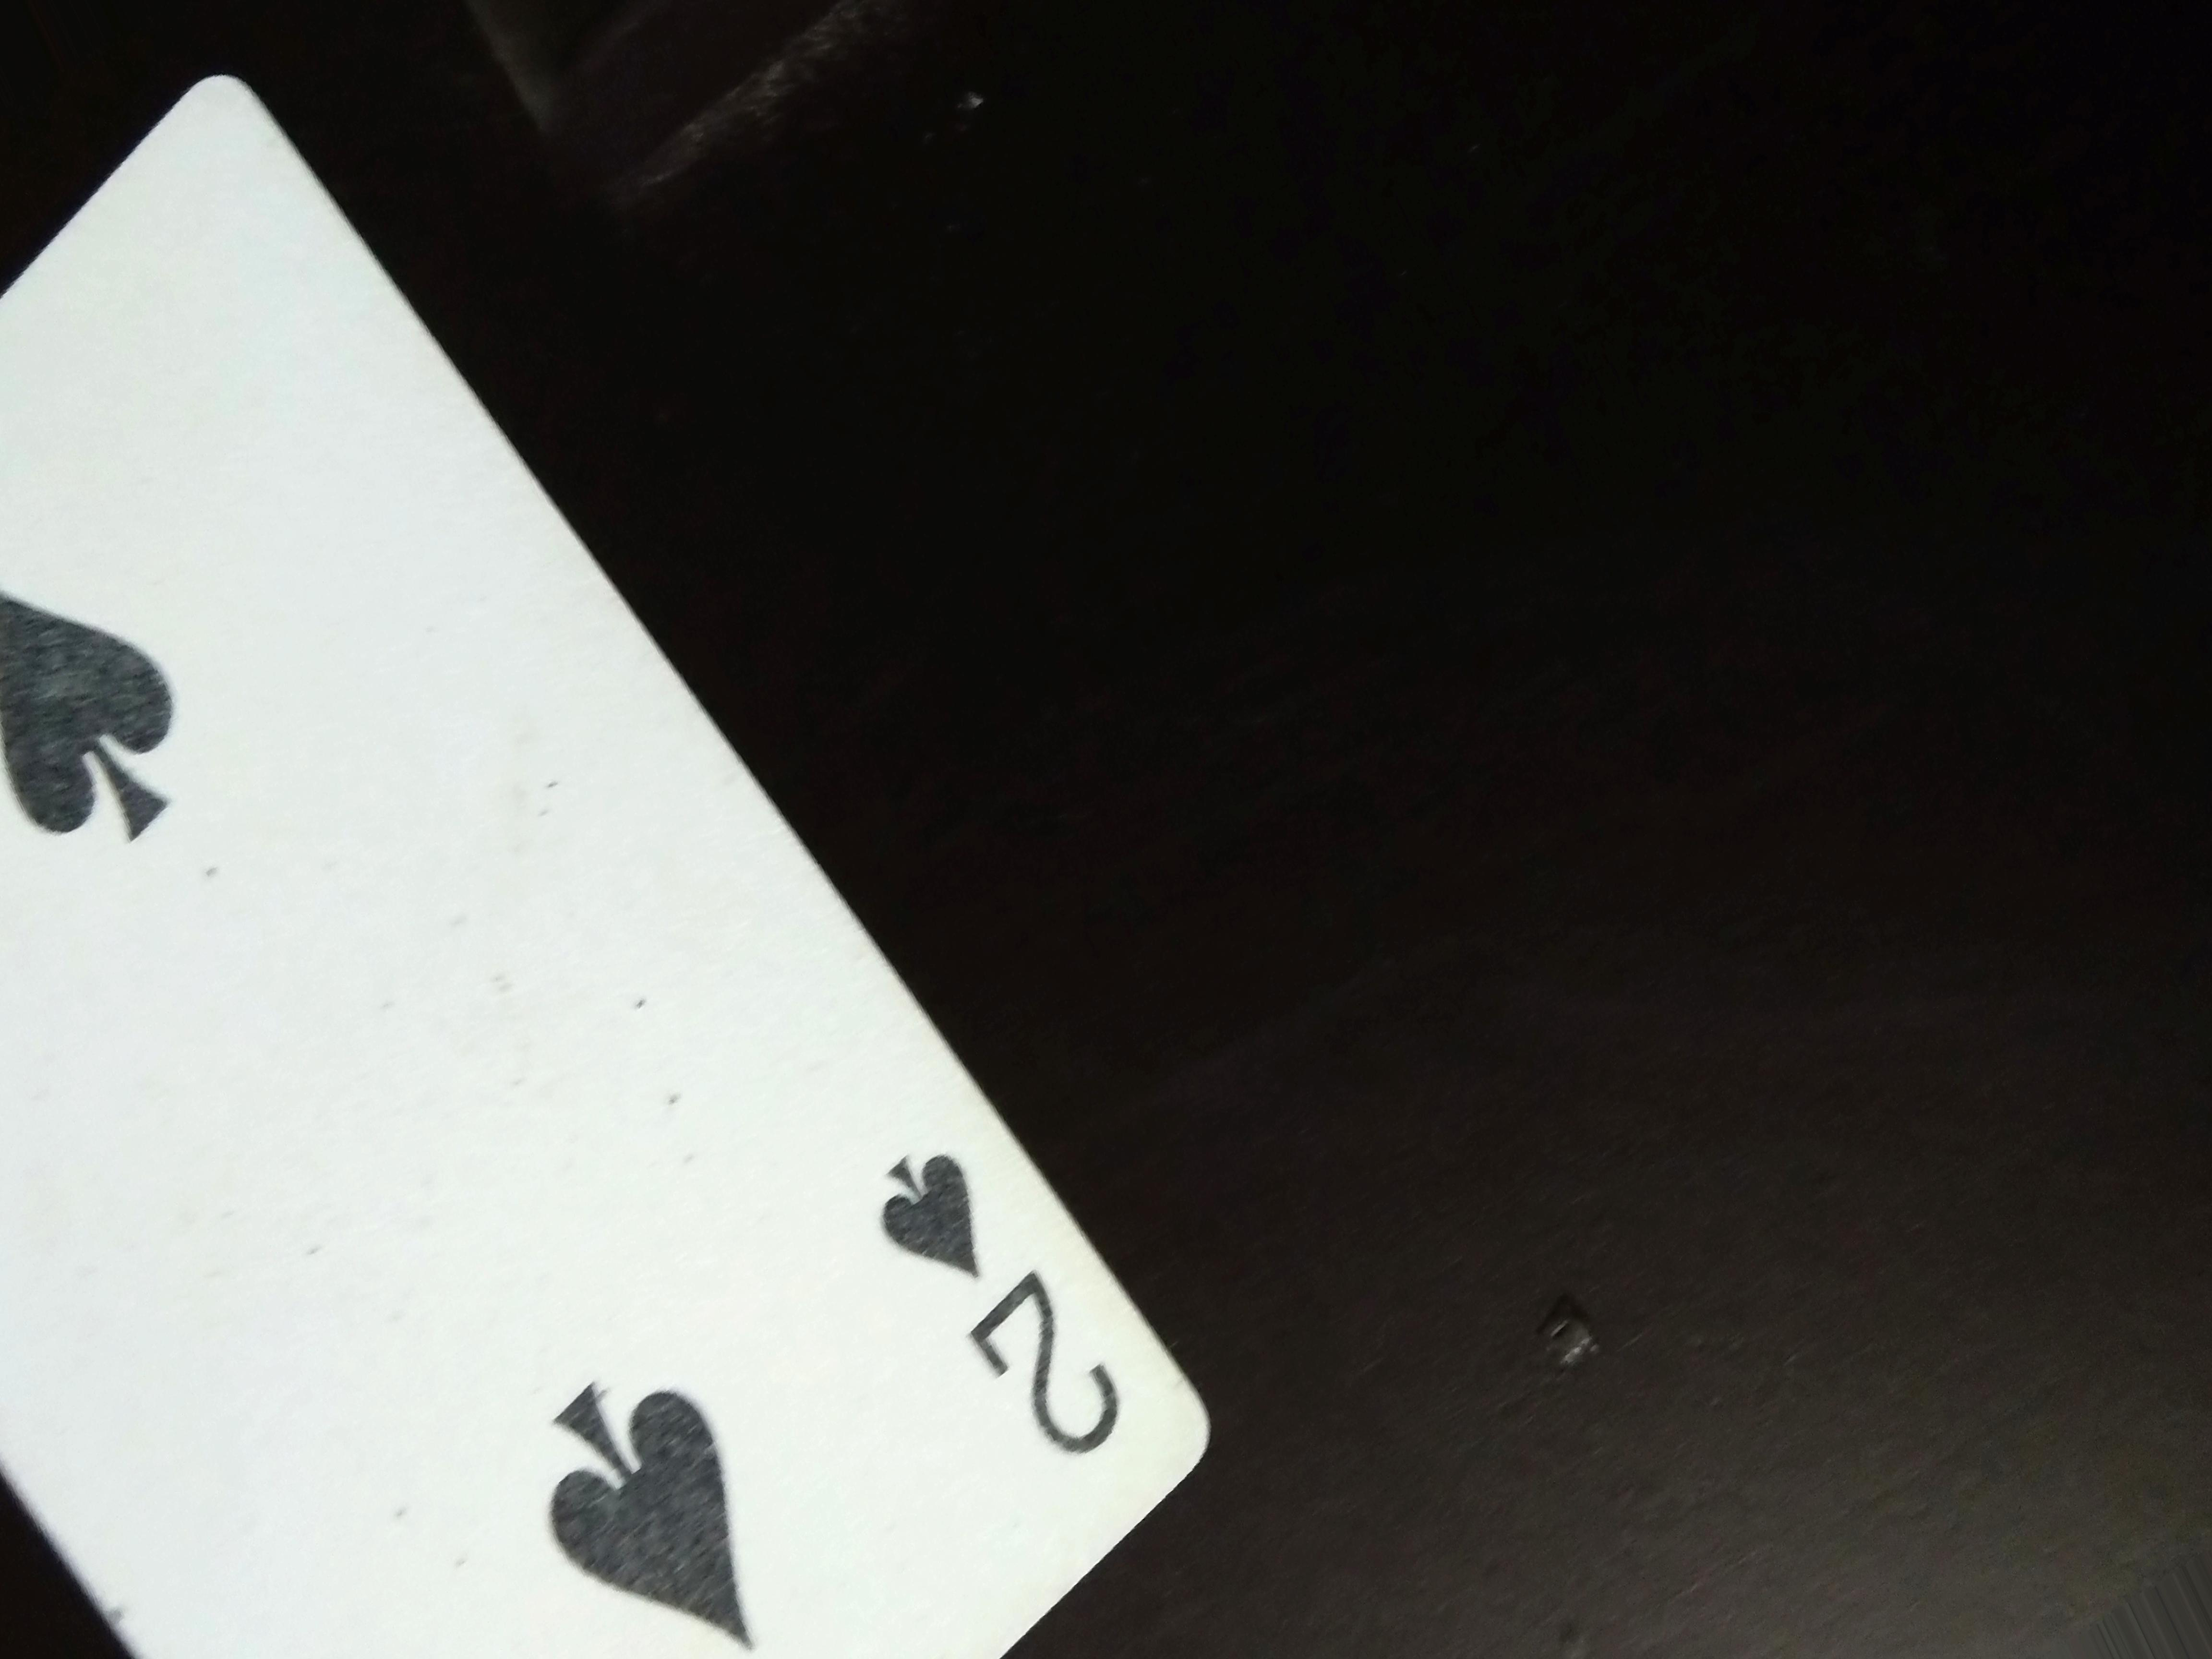2S: (838, 1119, 1153, 1488)
